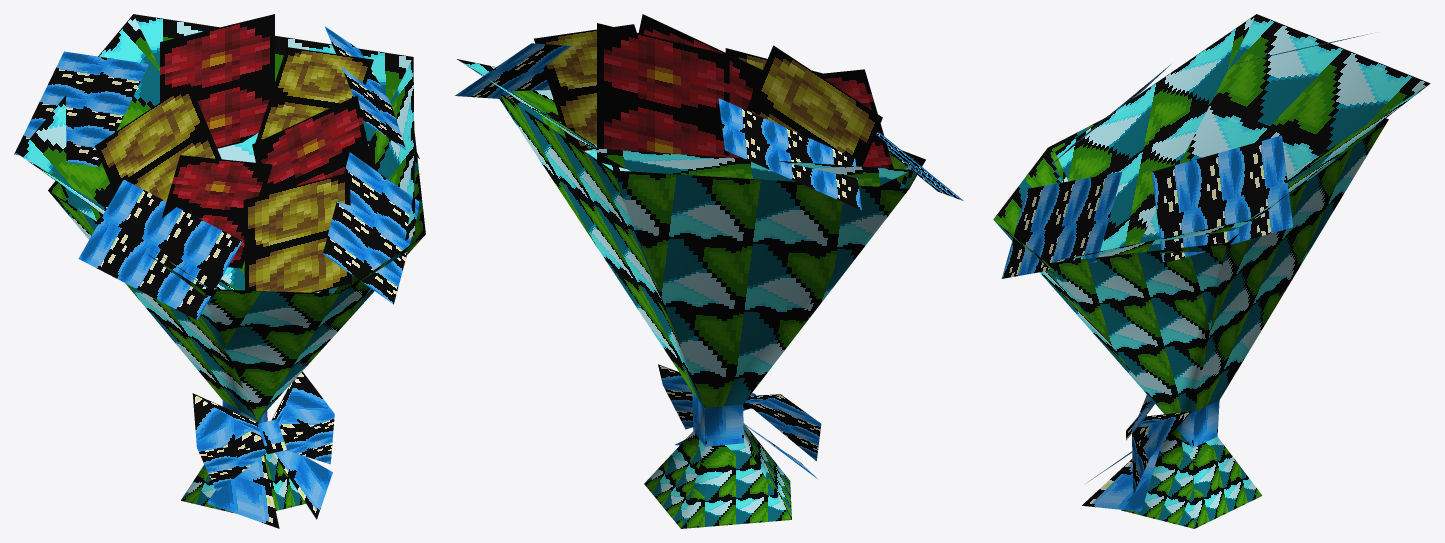
Rendered from 0031uc_taba01e.gltf.
3 renders of one model, left to right at view 1: azimuth 30°, elevation 25°; view 2: azimuth 150°, elevation 25°; view 3: azimuth 270°, elevation 25°, orthographic. The views are drawn at different scales.
Visible parts, largest first — view 1: 0031uc_taba01e; view 2: 0031uc_taba01e; view 3: 0031uc_taba01e.
Part boxes in pixels (x1,y1,x2,y2): 0031uc_taba01e: [14, 14, 425, 528]; 0031uc_taba01e: [455, 14, 963, 528]; 0031uc_taba01e: [993, 14, 1430, 528].
Bounding box in the file's own units: 0.7759 × 0.8 × 0.7007.
4 materials, 4 textured.
